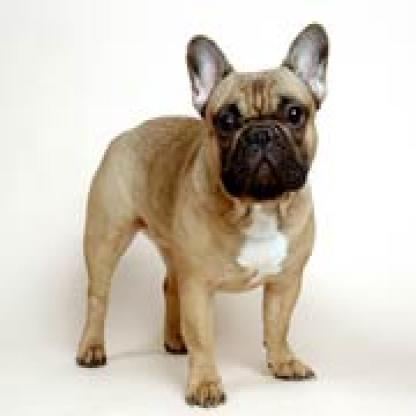French_bulldog: (67, 17, 335, 410)
